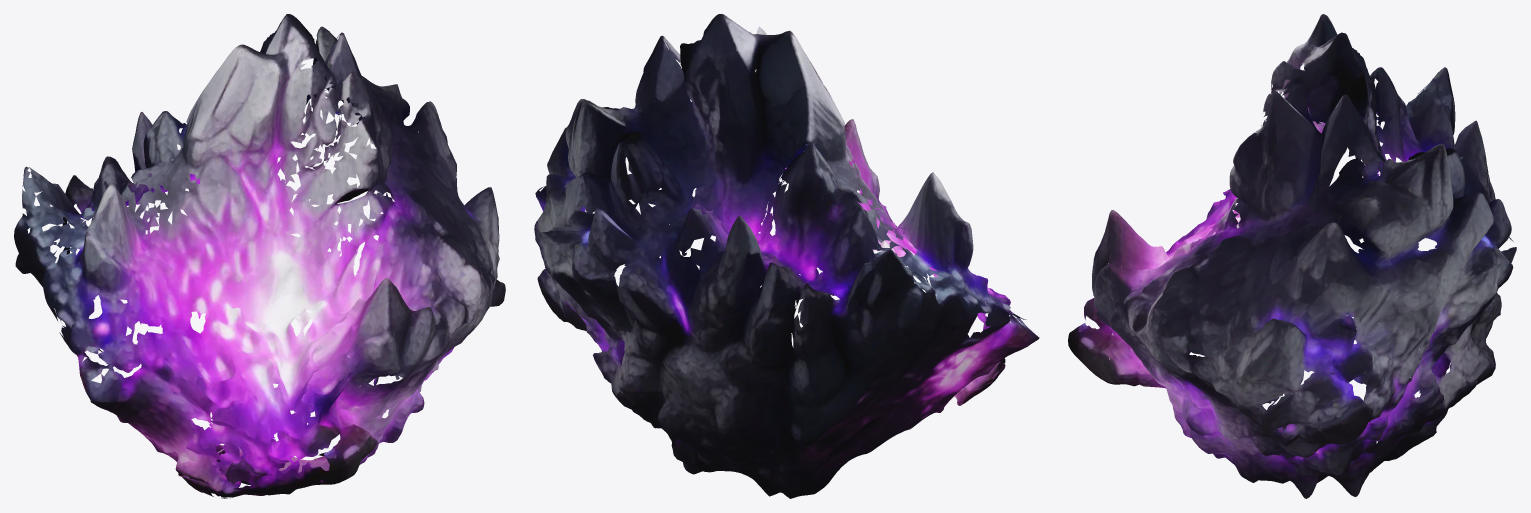
File: prop_rock.glb
3 renders of one model, left to right at view 1: azimuth 30°, elevation 25°; view 2: azimuth 150°, elevation 25°; view 3: azimuth 270°, elevation 25°, orthographic. The views are drawn at different scales.
Visible parts, largest first — view 1: geometry_0.389; view 2: geometry_0.389; view 3: geometry_0.389.
Part boxes in pixels (x1,y1,x2,y2): geometry_0.389: [14, 14, 505, 498]; geometry_0.389: [534, 14, 1039, 498]; geometry_0.389: [1068, 14, 1516, 498].
Bounding box in the file's own units: 1 × 0.9959 × 0.8761.
Materials: 1 (1 with a texture image).
